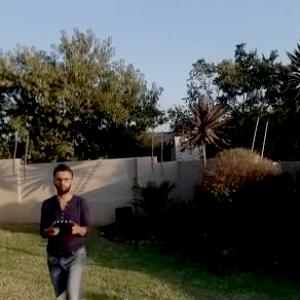follow: (38, 158, 95, 299)
